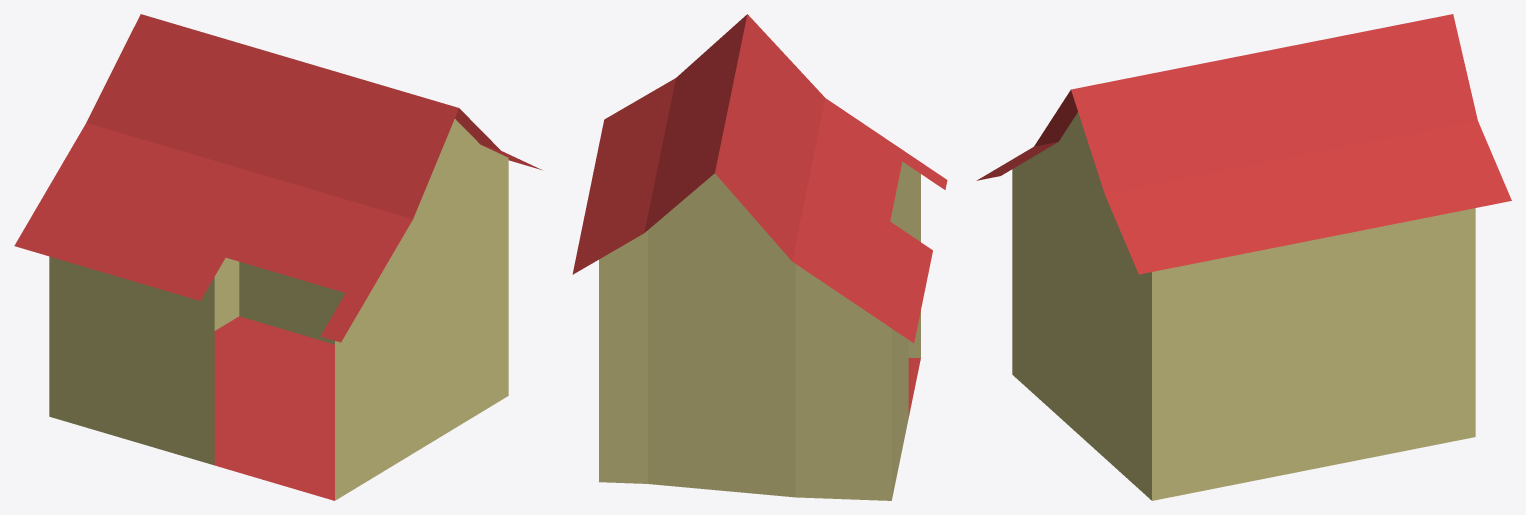
3 views of the same model, side by side, from view 1: azimuth 30°, elevation 25°; view 2: azimuth 150°, elevation 25°; view 3: azimuth 270°, elevation 25° (orthographic). The views are drawn at different scales.
Bounding box in the file's own units: 19.41 × 19.56 × 14.71.
